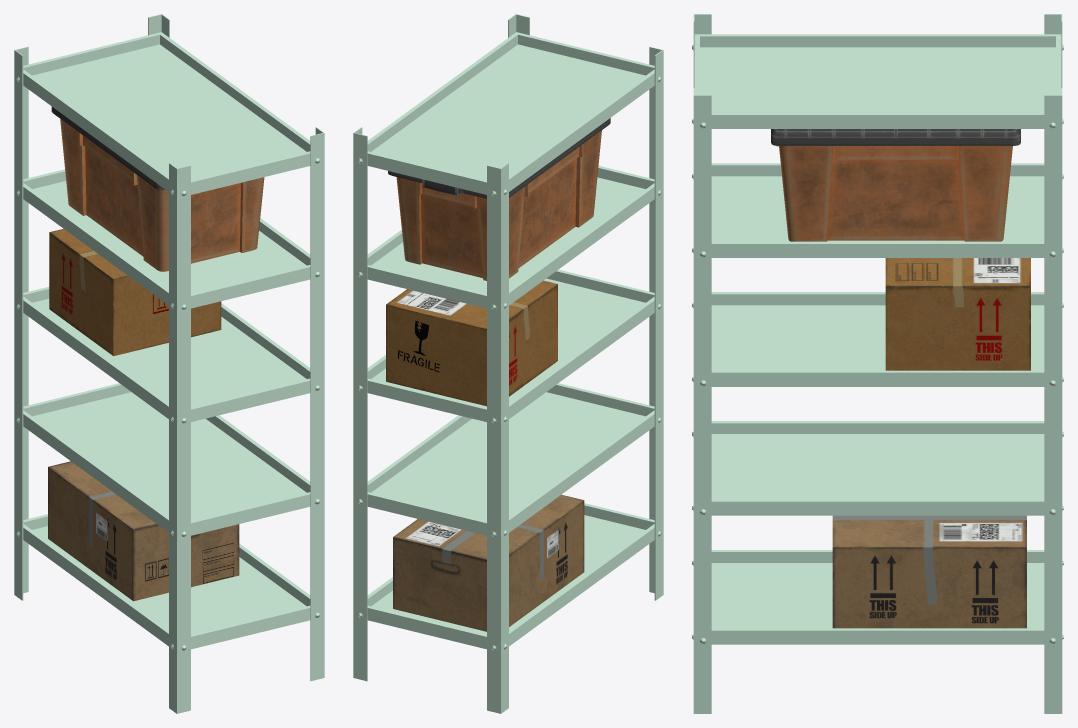
The model's file is shelves_reference.001.fbx.
3 renders of one model, left to right at view 1: azimuth 30°, elevation 25°; view 2: azimuth 150°, elevation 25°; view 3: azimuth 270°, elevation 25°, orthographic. The views are drawn at different scales.
Parts seen in each view (by area): view 1: shelves_reference.001; view 2: shelves_reference.001; view 3: shelves_reference.001.
Boxes of the visible parts, box(x1,y1,x2,y2) form: shelves_reference.001: box(14, 14, 324, 713); shelves_reference.001: box(353, 14, 663, 713); shelves_reference.001: box(692, 14, 1063, 713).
Size of the model in its own units: 61.77 by 215 by 117.
